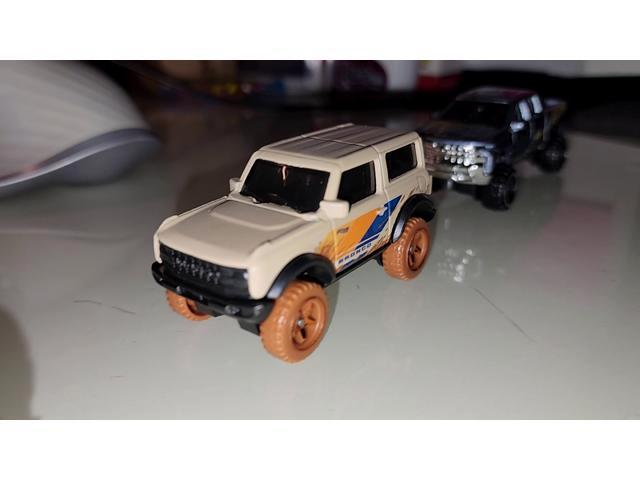toy-car: (150, 120, 438, 363), (419, 83, 572, 214)
